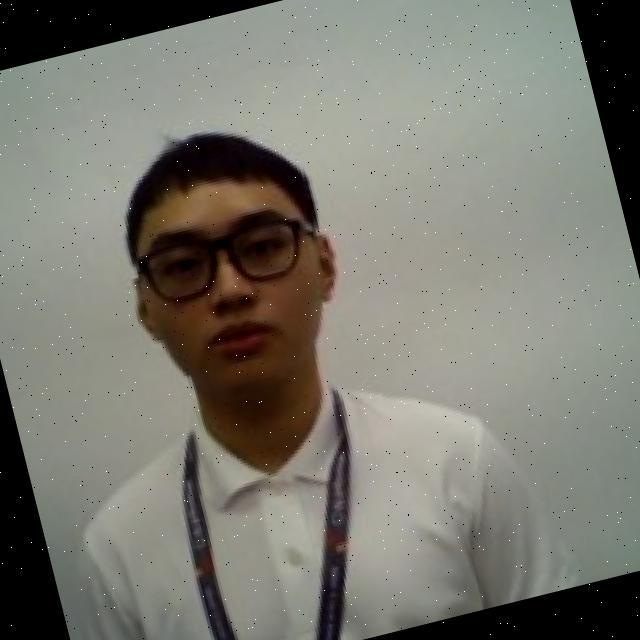no_gloves: (91, 102, 328, 267)
no_hairnet: (120, 226, 368, 421)
